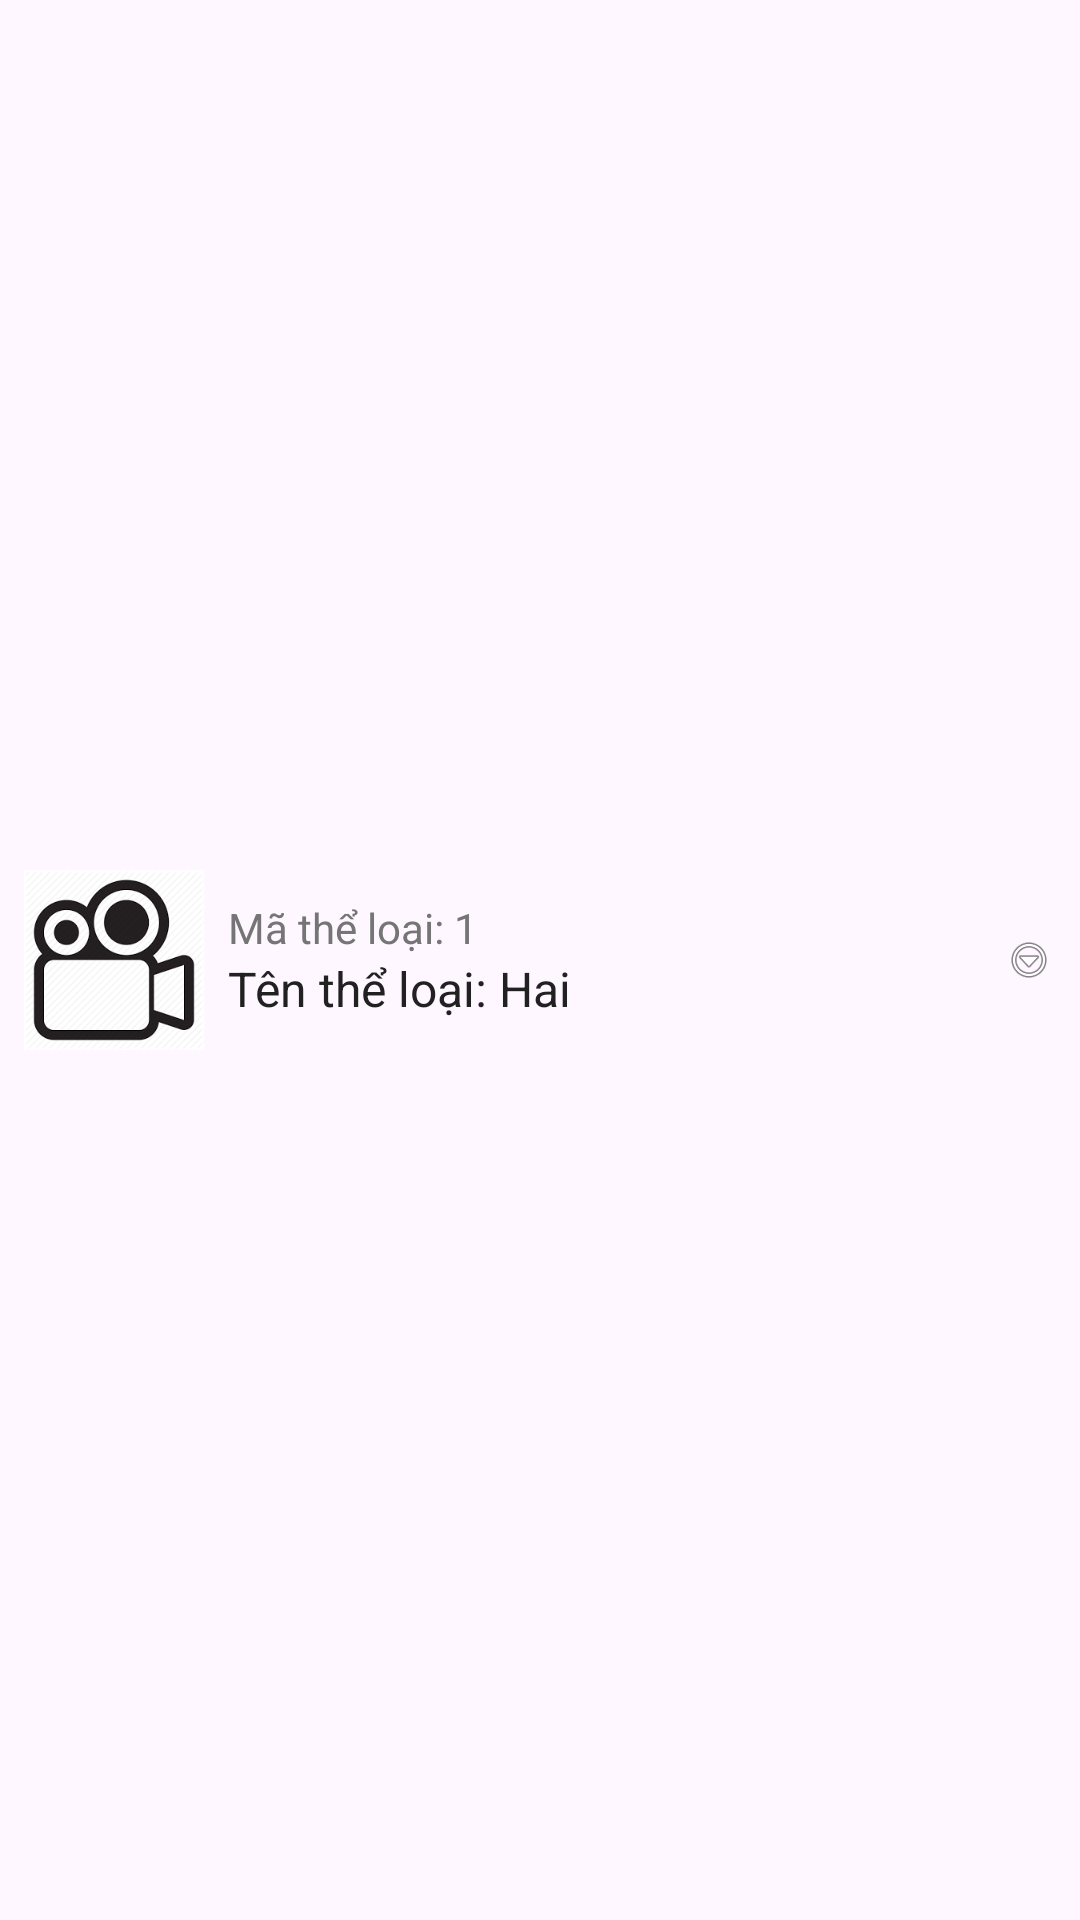

Icon click points for this 1080 x 1920 phone screenshot, format (x=x, y=y):
Category Icon: (x=114, y=960)
Menu: (x=1029, y=960)
